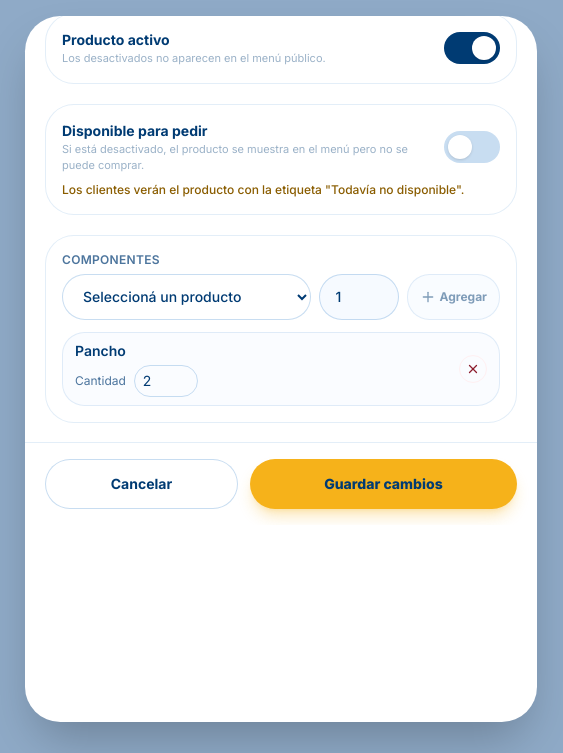
it: ProductFormDialog — promo component editor › removing the last existing component sends empty component payload
Later steps or results of the test are not shown.
(page scrolled)
Check: the text "Pancho" is shown, box [75, 342, 126, 359]
Click the button named "quitar" at point(473, 369), box [459, 355, 487, 383]
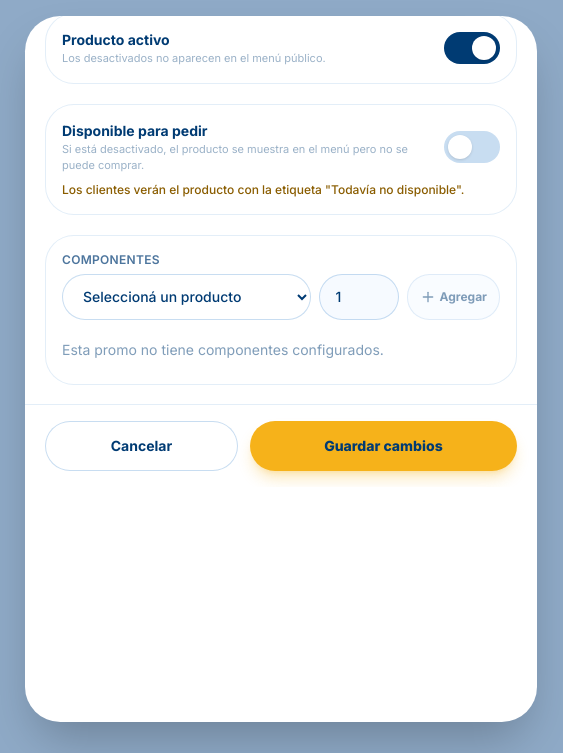
Check: the text "Pancho" is gone
